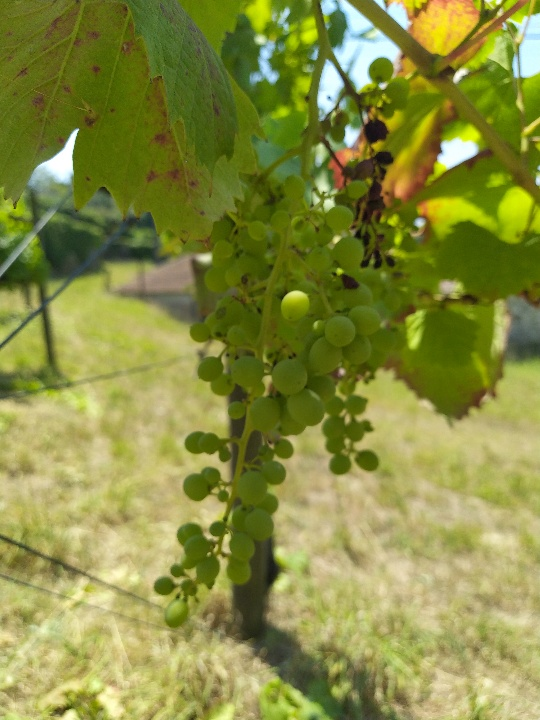grape: (147, 173, 405, 639), (340, 111, 412, 268)
